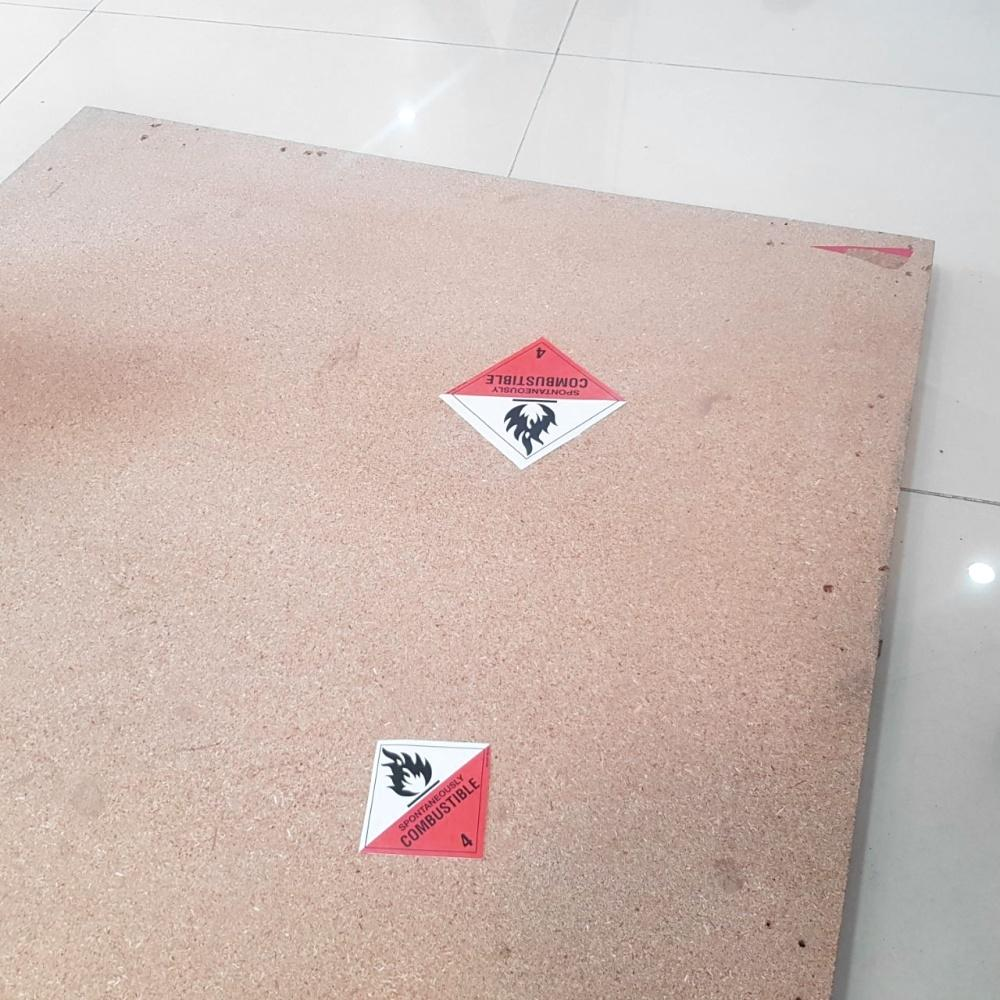spontaneously-combustible: (439, 335, 630, 466), (356, 736, 496, 861)
